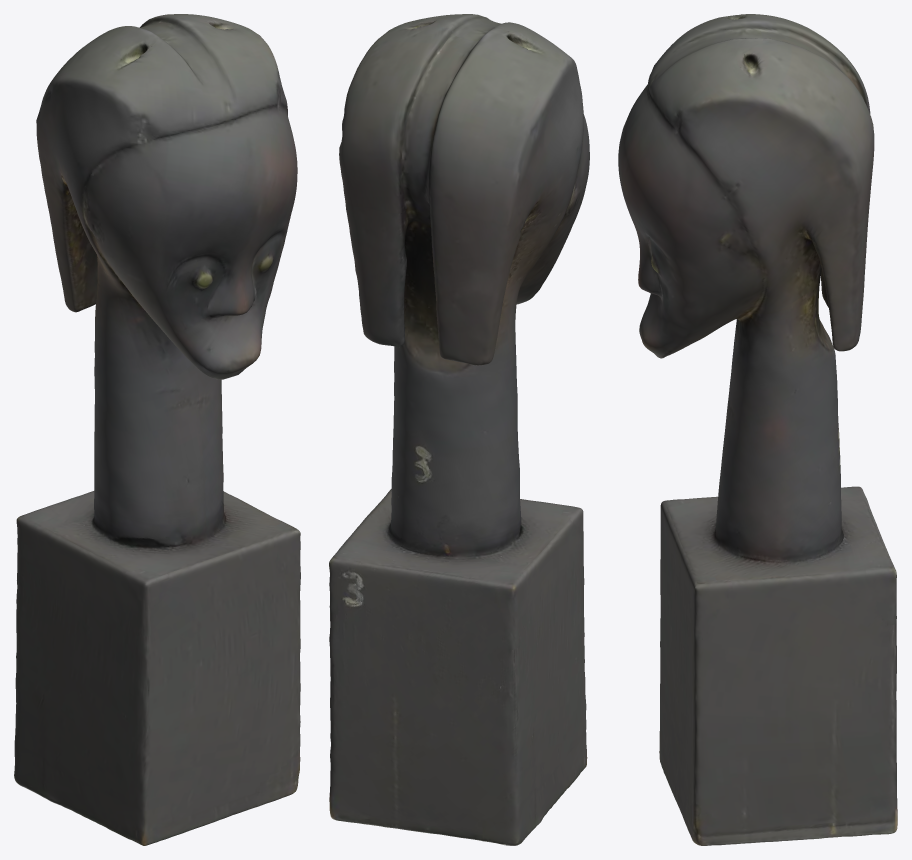
The model's file is preview.glb.
3 renders of one model, left to right at view 1: azimuth 30°, elevation 25°; view 2: azimuth 150°, elevation 25°; view 3: azimuth 270°, elevation 25°, orthographic.
Parts seen in each view (by area): view 1: Object_2; view 2: Object_2; view 3: Object_2.
Part boxes in pixels (left/top/right/bottom): Object_2: left=14, top=14, right=300, bottom=845; Object_2: left=329, top=14, right=589, bottom=845; Object_2: left=618, top=14, right=897, bottom=845.
Size of the model in its own units: 10.67 by 37.95 by 12.49.
Materials: 1 (1 with a texture image).
